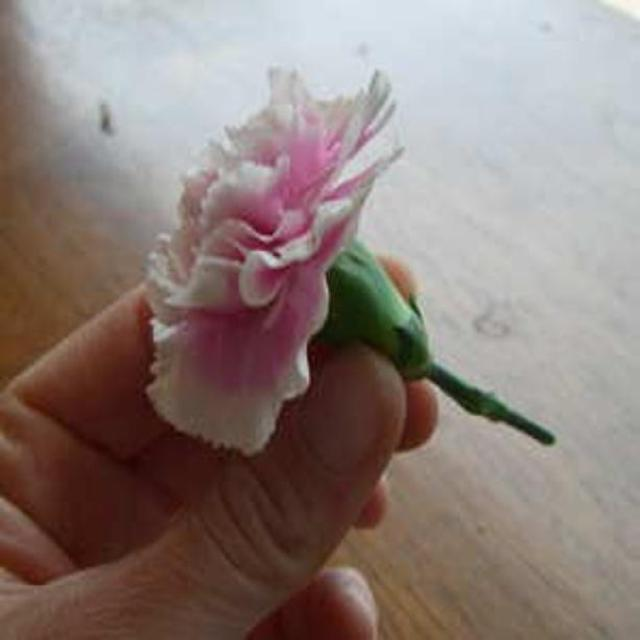carnation: (131, 63, 427, 402)
